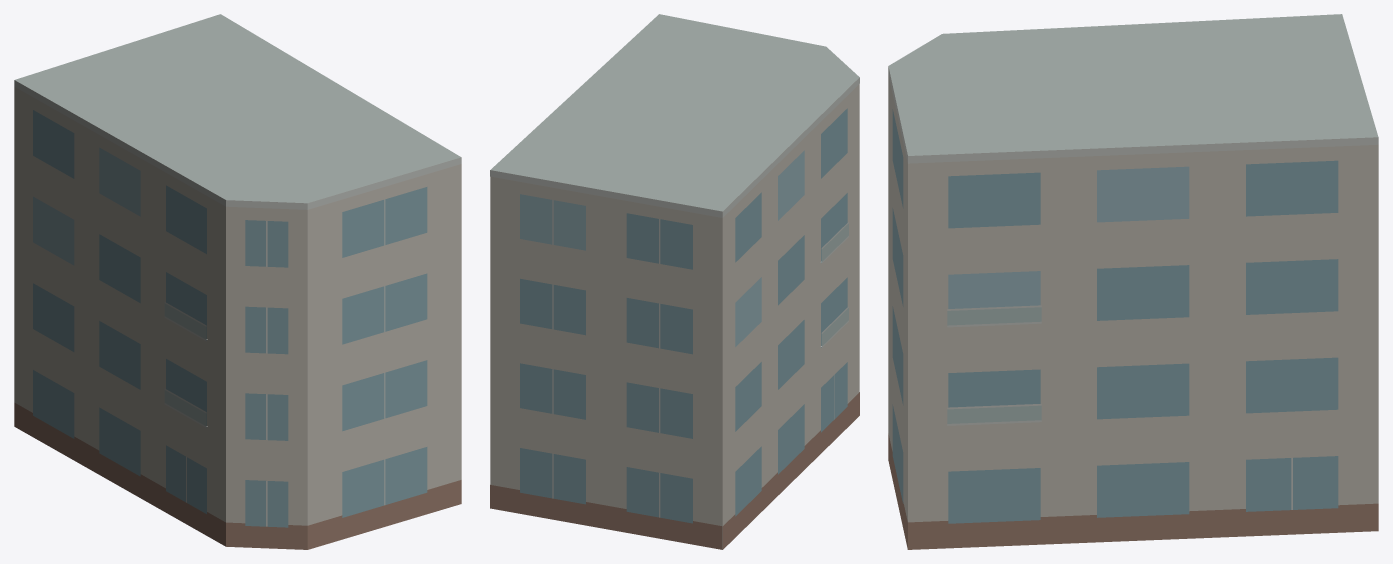
The model's file is survey-upis-32653075.glb.
3 renders of one model, left to right at view 1: azimuth 30°, elevation 25°; view 2: azimuth 150°, elevation 25°; view 3: azimuth 270°, elevation 25°, orthographic. The views are drawn at different scales.
Parts seen in each view (by area): view 1: survey-upis-32653075.tmp; view 2: survey-upis-32653075.tmp; view 3: survey-upis-32653075.tmp.
Part boxes in pixels (bbox=[...]): survey-upis-32653075.tmp: bbox=[14, 14, 461, 549]; survey-upis-32653075.tmp: bbox=[490, 14, 859, 549]; survey-upis-32653075.tmp: bbox=[888, 14, 1378, 549].
Bounding box in the file's own units: 9.91 × 12.8 × 14.45.
